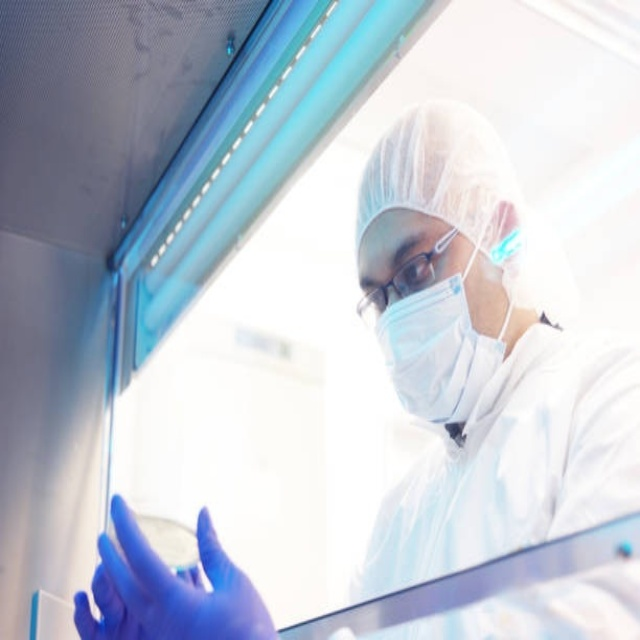Gafas: (356, 223, 467, 326)
Guantes: (75, 491, 280, 634)
Mascara: (371, 231, 506, 424)
